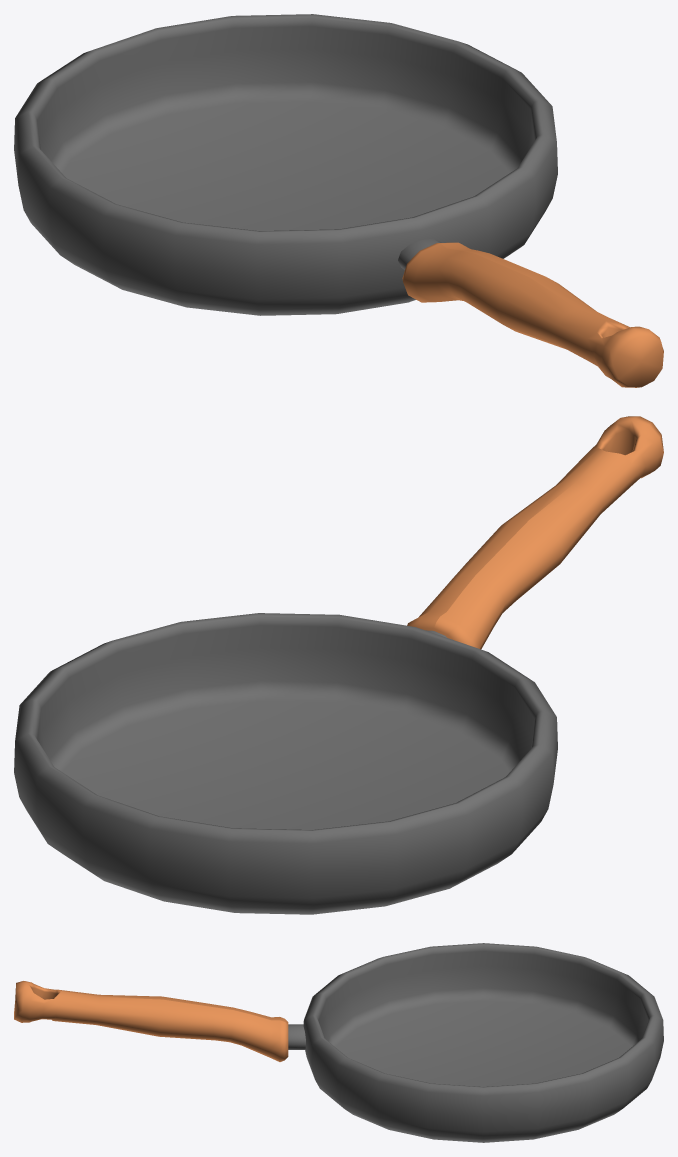
The model's file is pan.gltf.
The picture shows the model from 3 angles, top to bottom: view 1: azimuth 30°, elevation 25°; view 2: azimuth 150°, elevation 25°; view 3: azimuth 270°, elevation 25°; orthographic projection. The views are drawn at different scales.
Visible parts, largest first — view 1: body, handle; view 2: body, handle; view 3: body, handle.
Part boxes in pixels (x1,y1,x2,y2): body: (14, 14, 557, 315); handle: (402, 242, 663, 387); body: (14, 613, 557, 914); handle: (407, 416, 663, 649); body: (288, 943, 663, 1142); handle: (14, 981, 288, 1061).
Bounding box in the file's own units: 5.33 × 1.5 × 9.6.
